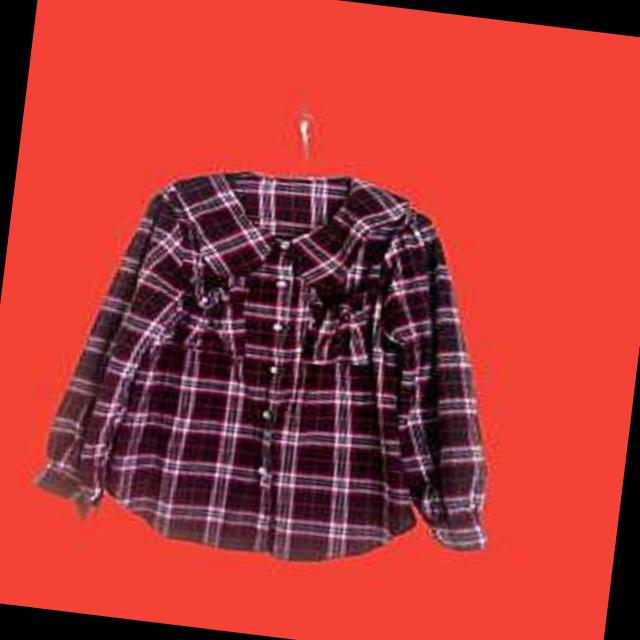SHIRT: (9, 136, 599, 597)
